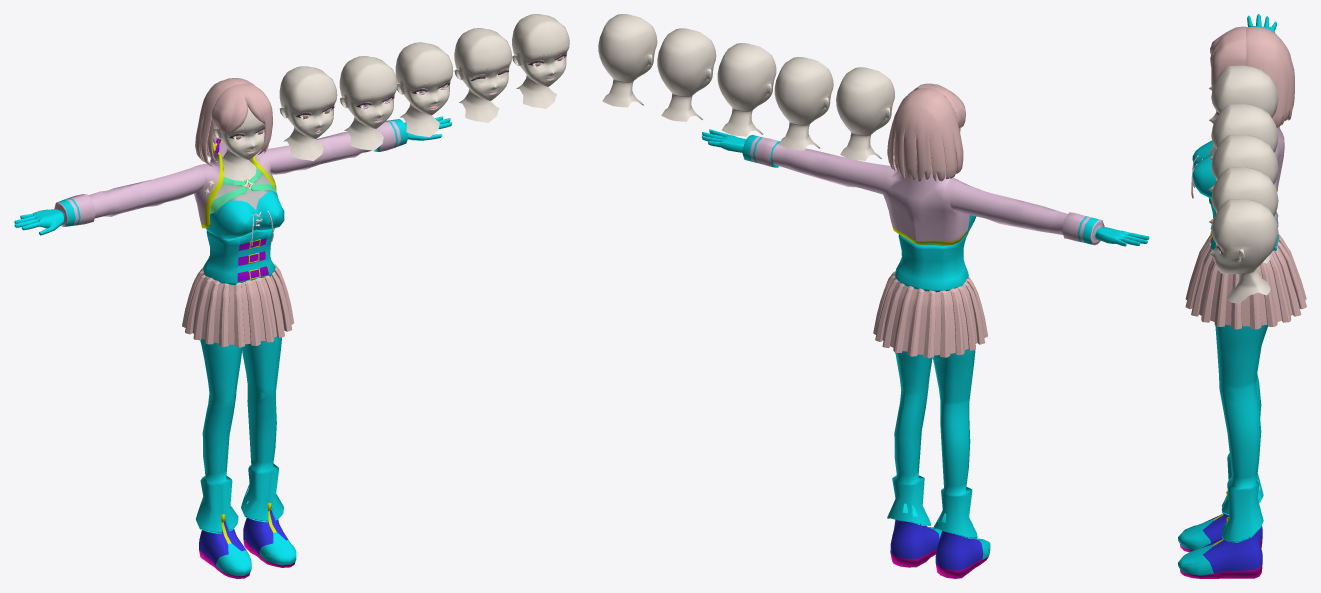
The model's file is TEST_BELA2 4.fbx.
3 views of the same model, side by side, from view 1: azimuth 30°, elevation 25°; view 2: azimuth 150°, elevation 25°; view 3: azimuth 270°, elevation 25° (orthographic). The views are drawn at different scales.
Parts seen in each view (by area): view 1: polySurface9, face6 (×5), skirt, BELa_1FACEtest:face10, polySurface4, forelock, polySurface10, polySurface2, polySurface8, hair3, polySurface6; view 2: polySurface9, face6 (×4), skirt, hair3, BELa_1FACEtest:face10, polySurface4, polySurface2, polySurface8, polySurface6; view 3: polySurface9, face6 (×4), skirt, hair3, BELa_1FACEtest:face10, forelock, polySurface10, polySurface4.
Boxes of the visible parts, bbox=[...] form: polySurface9: bbox=[194, 140, 296, 578]; face6 (×5): bbox=[213, 14, 569, 181]; skirt: bbox=[182, 263, 293, 347]; BELa_1FACEtest:face10: bbox=[279, 66, 337, 161]; polySurface4: bbox=[14, 184, 143, 235]; forelock: bbox=[212, 83, 272, 155]; polySurface10: bbox=[206, 190, 284, 238]; polySurface2: bbox=[323, 116, 452, 161]; polySurface8: bbox=[133, 165, 205, 207]; hair3: bbox=[195, 78, 268, 167]; polySurface6: bbox=[266, 137, 332, 174]; polySurface9: bbox=[882, 166, 990, 578]; face6 (×4): bbox=[598, 14, 833, 150]; skirt: bbox=[873, 271, 987, 358]; hair3: bbox=[887, 88, 963, 182]; BELa_1FACEtest:face10: bbox=[836, 67, 894, 160]; polySurface4: bbox=[1014, 200, 1149, 246]; polySurface2: bbox=[702, 129, 827, 179]; polySurface8: bbox=[950, 182, 1020, 227]; polySurface6: bbox=[819, 153, 889, 194]; polySurface9: bbox=[1178, 126, 1284, 578]; face6 (×4): bbox=[1209, 104, 1278, 304]; skirt: bbox=[1185, 233, 1306, 329]; hair3: bbox=[1246, 26, 1294, 127]; BELa_1FACEtest:face10: bbox=[1209, 65, 1278, 123]; forelock: bbox=[1210, 26, 1246, 91]; polySurface10: bbox=[1192, 140, 1215, 198]; polySurface4: bbox=[1247, 14, 1276, 32].
Bounding box in the file's own units: 185 × 152 × 33.53.
Materials: 16 (3 with a texture image).
